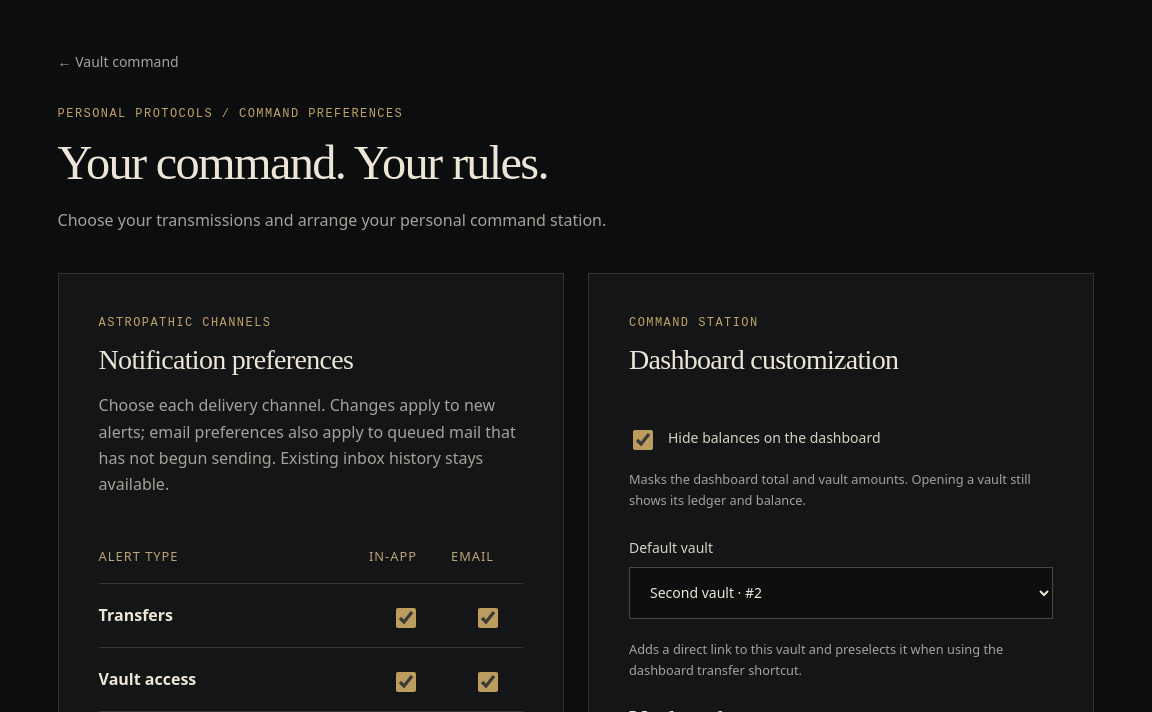
Scenario: notification channels save independently from dashboard preferences
Click the 2nd checkbox named "Transfers email": [488, 618] box [478, 608, 498, 628]
(page scrolled)
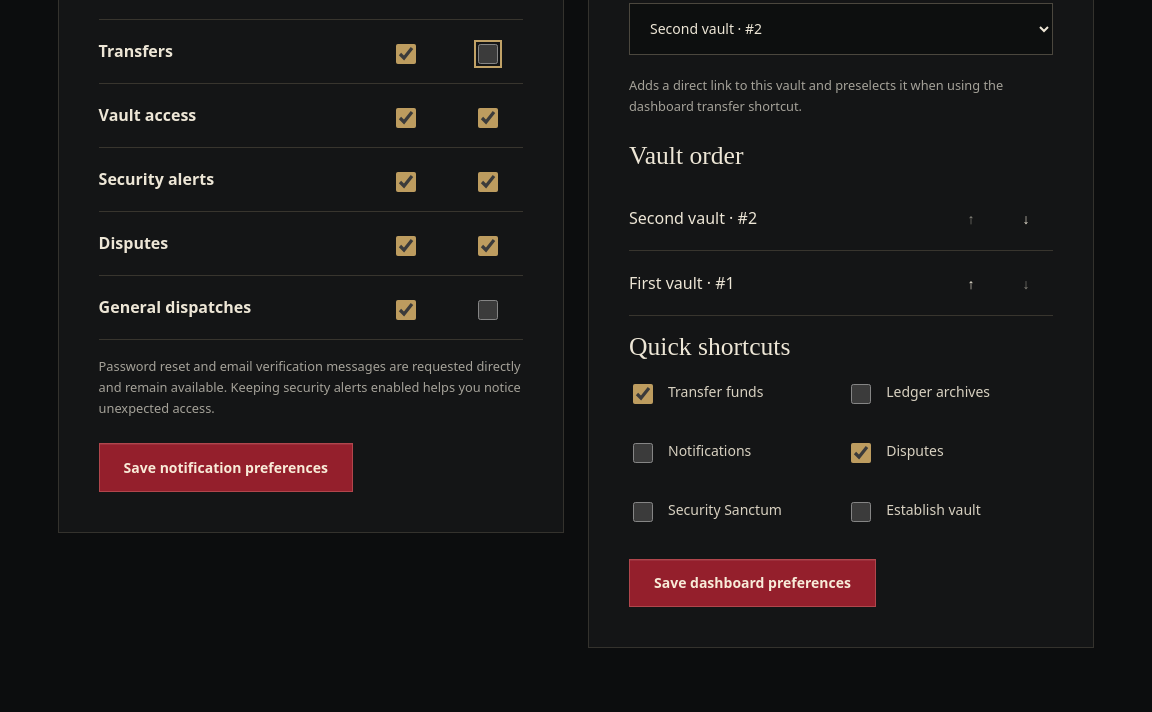
Click the button "Save notification preferences": [226, 468] box [99, 443, 353, 492]
(page scrolled)
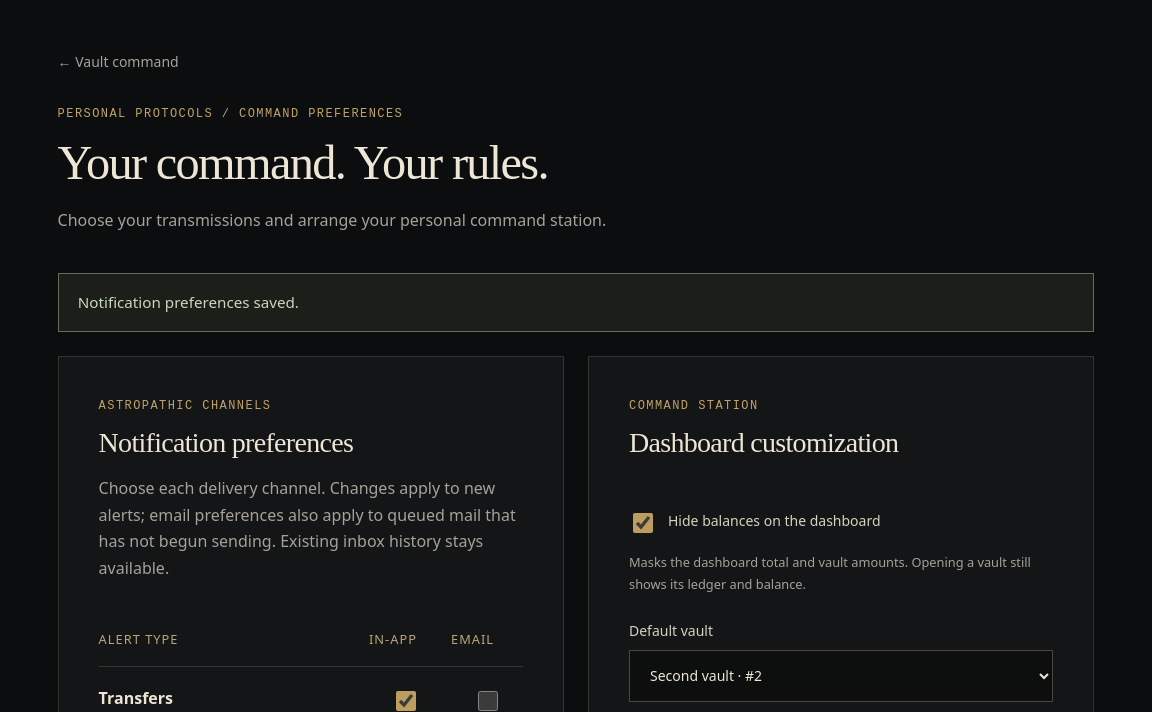
Expected: the text "Notification preferences saved." is shown, [58, 273, 1094, 332]
